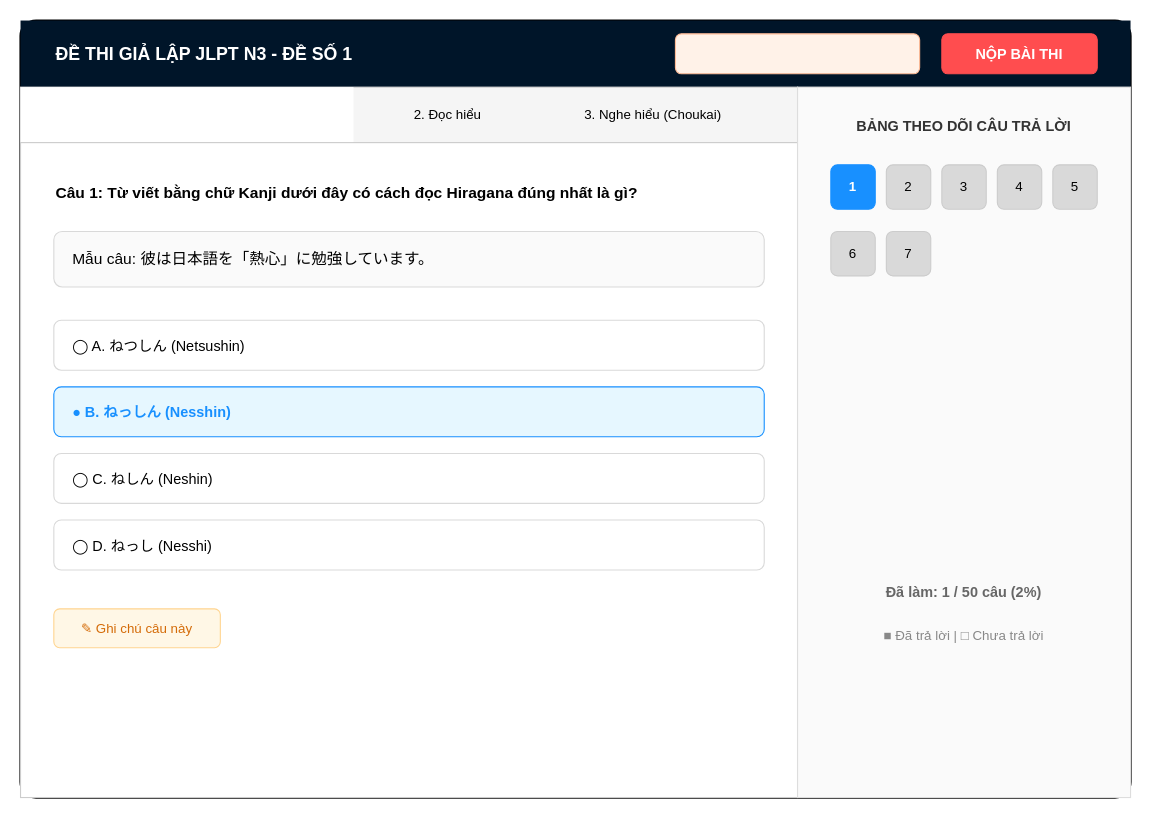
This 1150x817 diagram has some shape labels left out. Each missing label, with the centre of its shape:
[ 1. Kiến thức ngôn ngữ (Từ vựng/Chữ Hán) ]: point 186,114
⏳ Thời gian còn lại: 134:25: point 797,53
